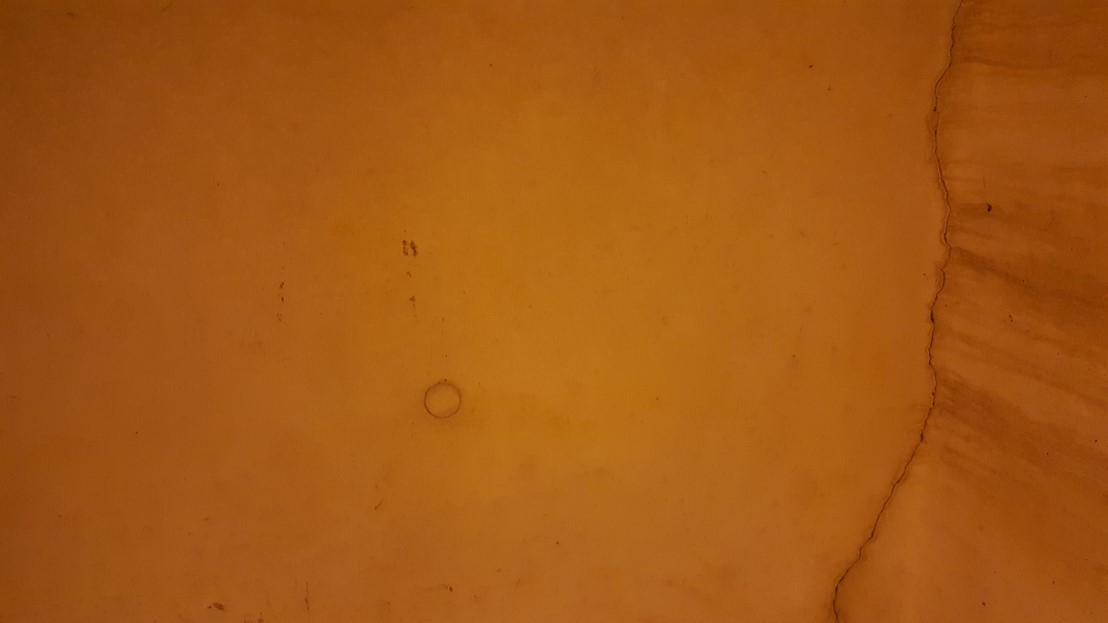Crack: (818, 0, 979, 623)
